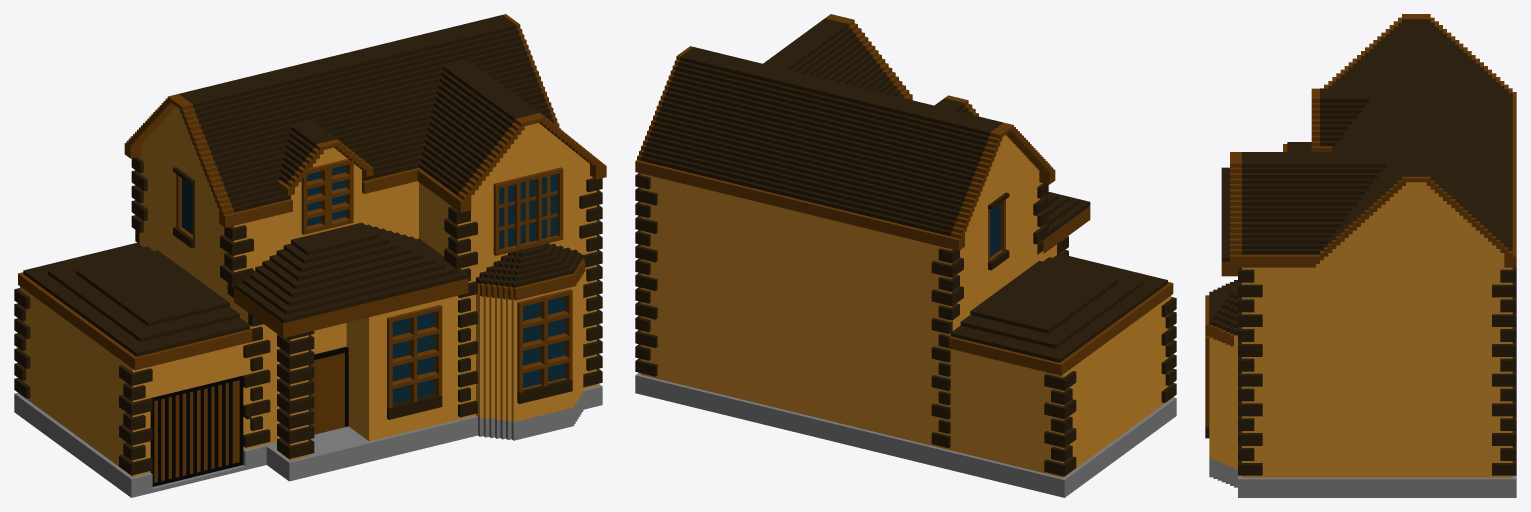
Rendered from house2.obj.
3 renders of one model, left to right at view 1: azimuth 30°, elevation 25°; view 2: azimuth 150°, elevation 25°; view 3: azimuth 270°, elevation 25°, orthographic. The views are drawn at different scales.
Size of the model in its own units: 12.6 by 8.6 by 7.6.
1 material, 1 textured.
